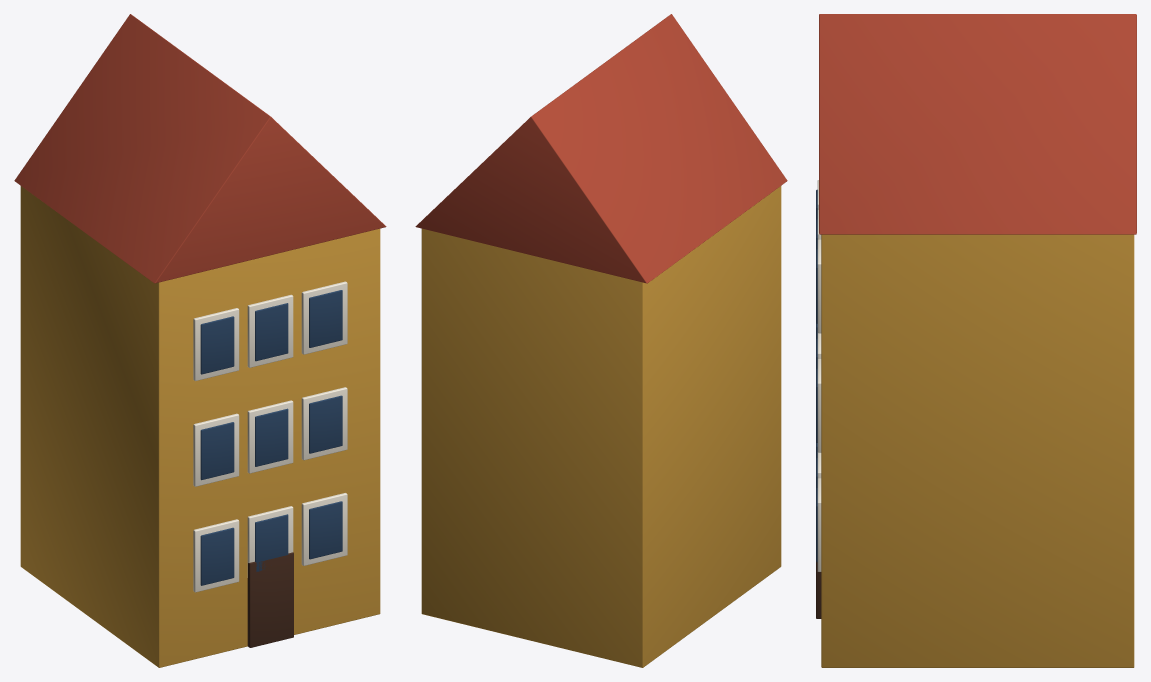
File: rg_europa_2.glb
The picture shows the model from 3 angles, left to right: view 1: azimuth 30°, elevation 25°; view 2: azimuth 150°, elevation 25°; view 3: azimuth 270°, elevation 25°; orthographic projection. The views are drawn at different scales.
Visible parts, largest first — view 1: rg_europa_2; view 2: rg_europa_2; view 3: rg_europa_2.
Part boxes in pixels (x1,y1,x2,y2): rg_europa_2: (14,14,386,667); rg_europa_2: (415,14,787,667); rg_europa_2: (816,14,1136,667).
Size of the model in its own units: 6.29 by 13.59 by 6.66.
